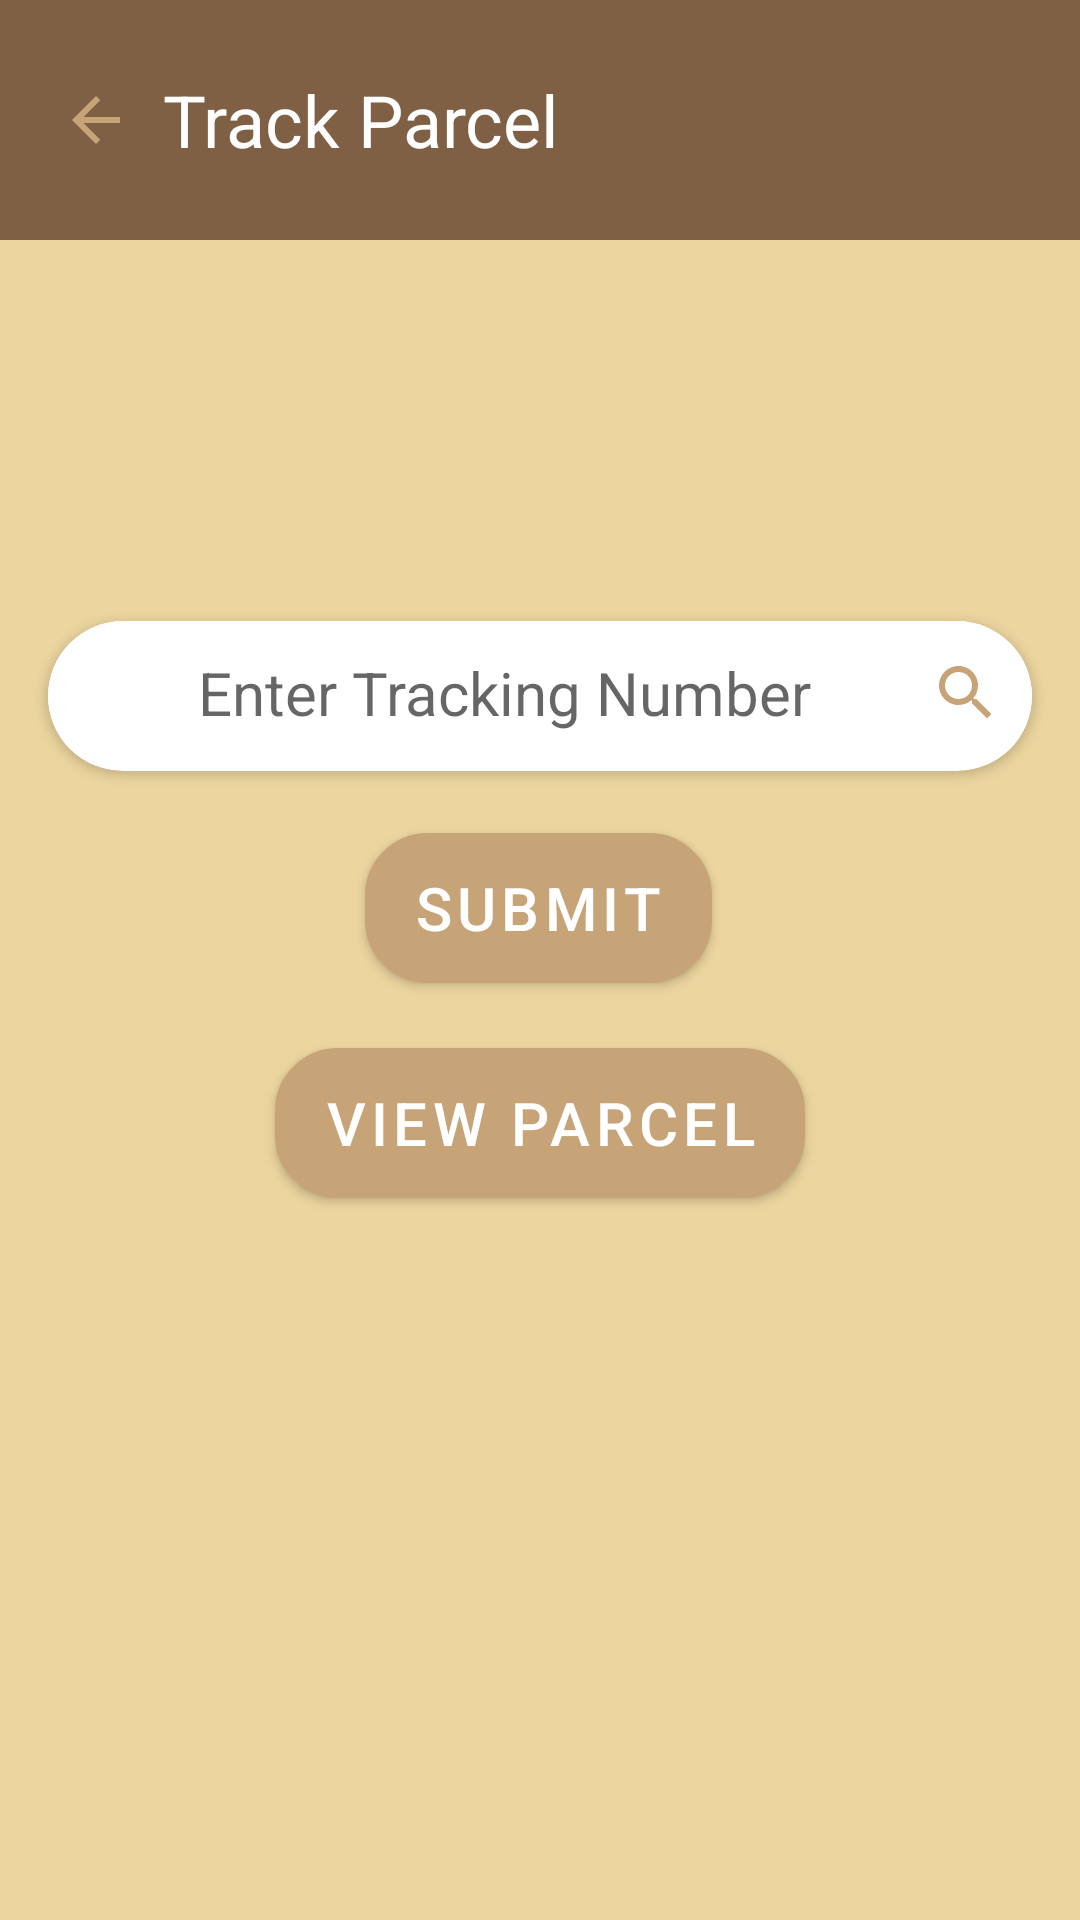

Point at icon controls on the screen. Image size 1080 x 1920, points as point (x, y).
Back: point (96, 120)
